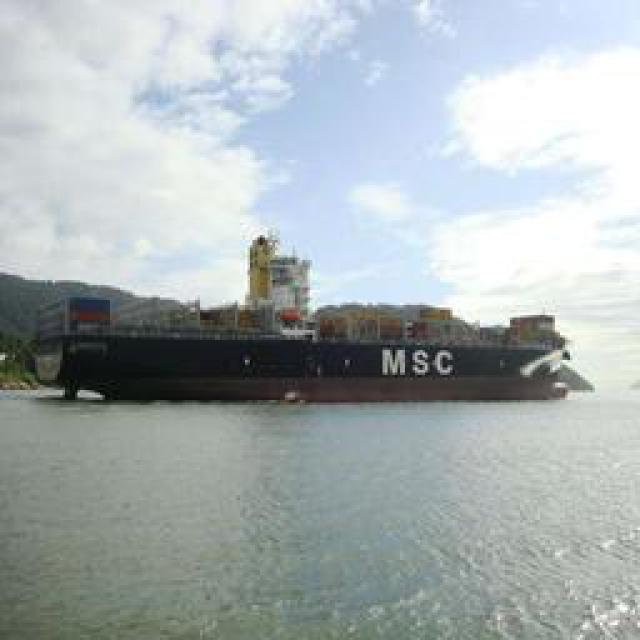Ship: (26, 315, 579, 405)
